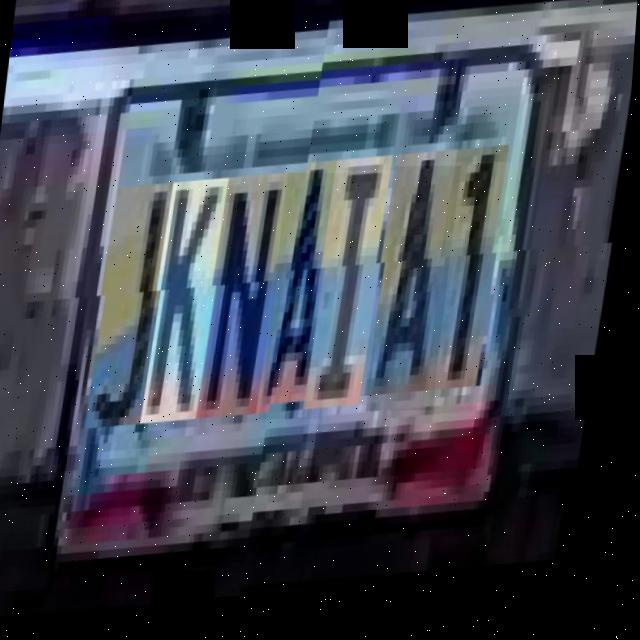1: (431, 166, 515, 416)
A: (371, 168, 464, 419), (265, 174, 353, 427)
I: (310, 172, 400, 431)
J: (93, 185, 182, 436)
K: (148, 181, 237, 433)
N: (204, 178, 297, 429)
